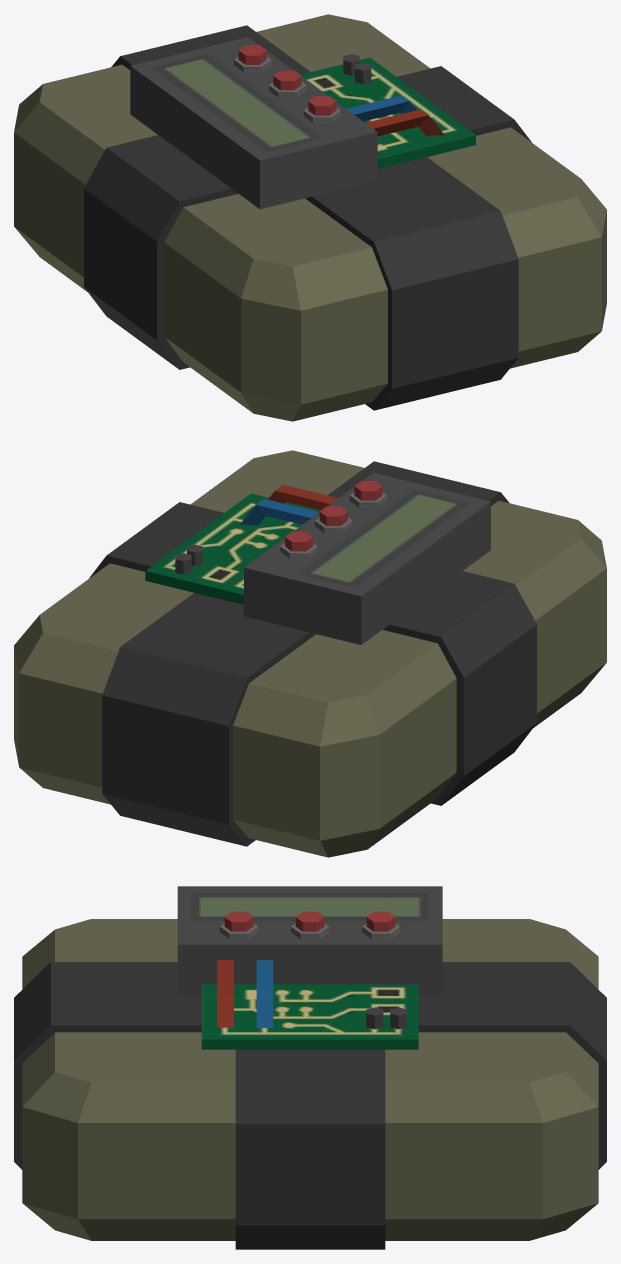
Rendered from chg_c4.glb.
3 views of the same model, one above another, from view 1: azimuth 30°, elevation 25°; view 2: azimuth 150°, elevation 25°; view 3: azimuth 270°, elevation 25° (orthographic). The views are drawn at different scales.
Visible parts, largest first — view 1: ChG_C4_0; view 2: ChG_C4_0; view 3: ChG_C4_0.
Part boxes in pixels (x1=…): ChG_C4_0: x1=14, y1=14, x2=606, y2=421; ChG_C4_0: x1=14, y1=450, x2=606, y2=857; ChG_C4_0: x1=14, y1=886, x2=606, y2=1249.
Size of the model in its own units: 0.902 by 0.5269 by 1.19.
Materials: 1 (1 with a texture image).
